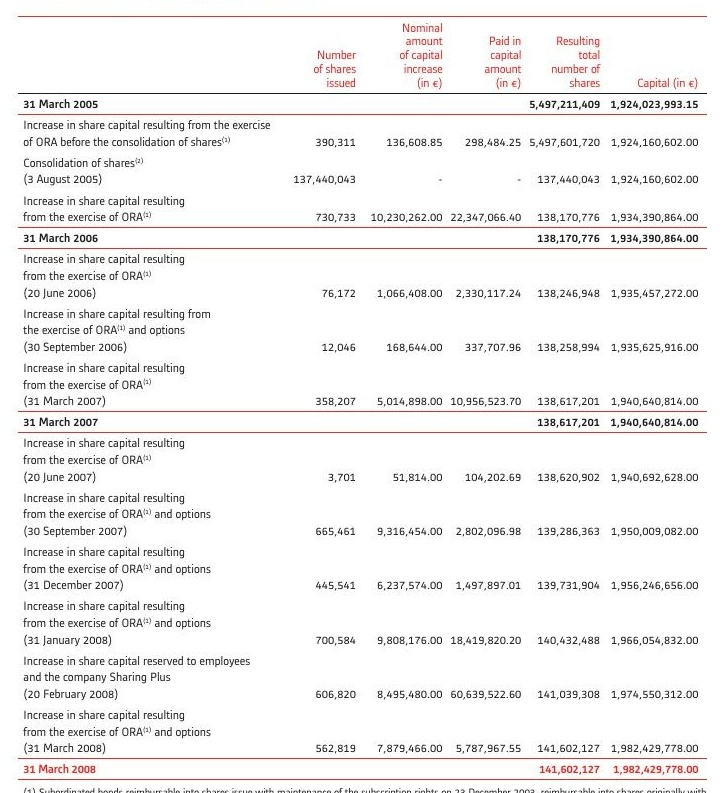table: (0, 0, 725, 793)
